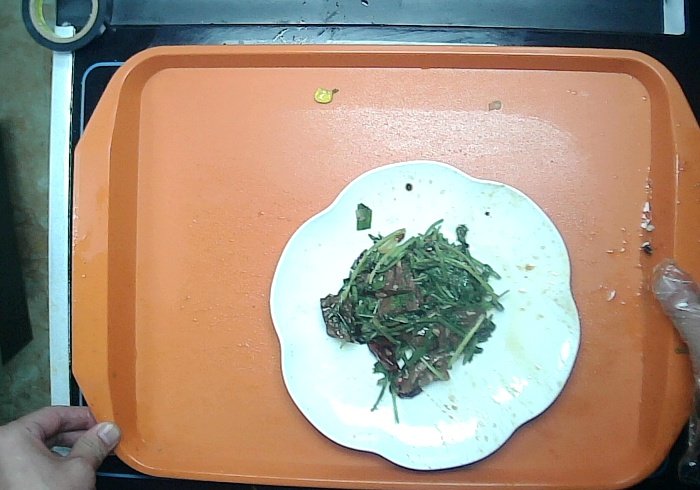HZYJPL-Bai_Se_Hua_Duo_Wan: (269, 157, 582, 473)
